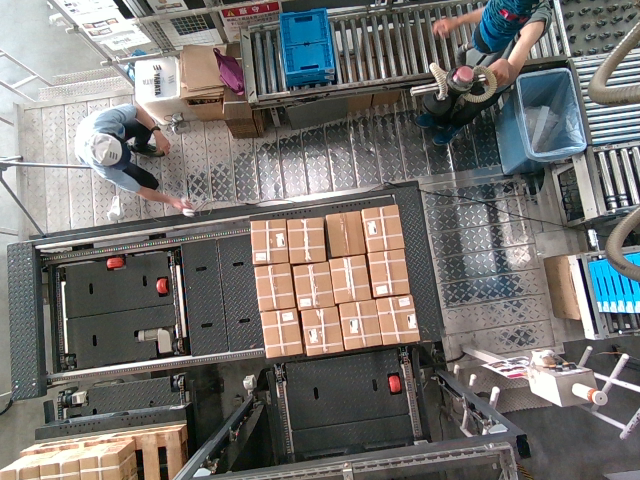box: (250, 220, 287, 264), (287, 218, 324, 262), (326, 210, 363, 254), (364, 206, 401, 250), (368, 251, 405, 295), (332, 257, 369, 301), (295, 263, 332, 307), (256, 263, 293, 307), (262, 309, 299, 353), (304, 307, 341, 351), (344, 299, 381, 343), (378, 296, 415, 340)
